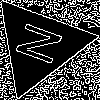N: (14, 20, 73, 71)
